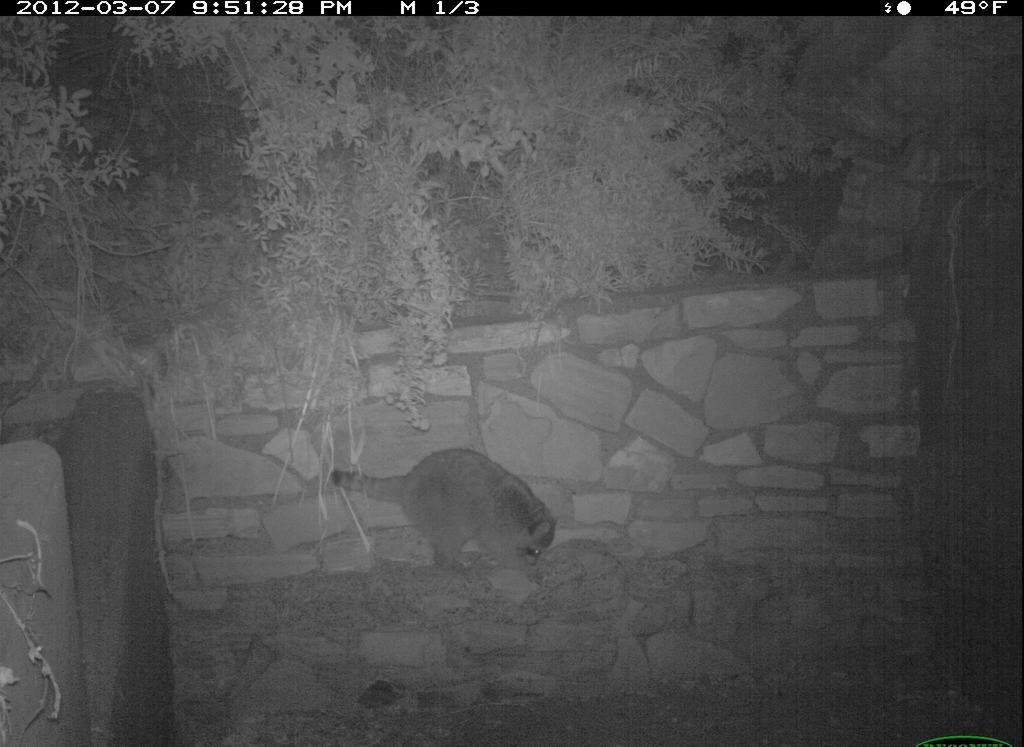raccoon: (304, 427, 584, 589)
